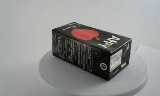appy: (47, 21, 124, 81)
